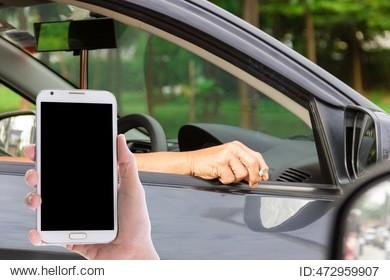Cigarette: (259, 167, 268, 177)
